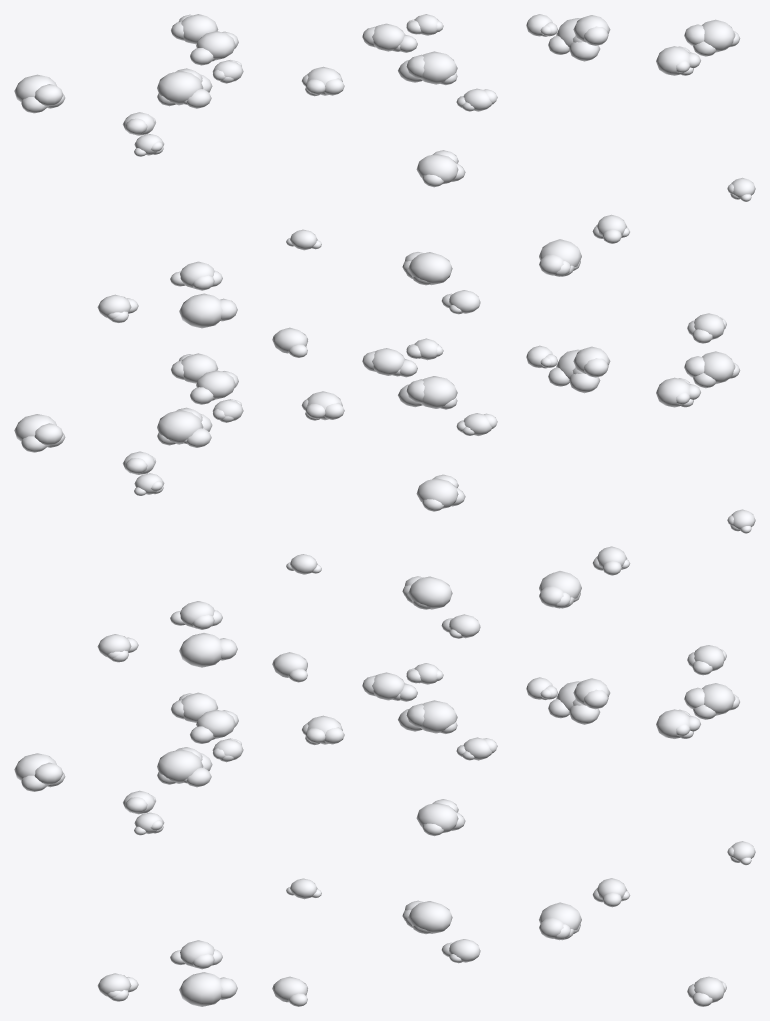
File: CloudLayer2.obj
3 renders of one model, left to right at view 1: azimuth 30°, elevation 25°; view 2: azimuth 150°, elevation 25°; view 3: azimuth 270°, elevation 25°, orthographic. The views are drawn at different scales.
Parts seen in each view (by area): view 1: CloudLayer2; view 2: CloudLayer2; view 3: CloudLayer2.
Boxes of the visible parts, box(x1,y1,x2,y2) form: CloudLayer2: box(14, 14, 243, 1006); CloudLayer2: box(272, 14, 497, 1006); CloudLayer2: box(526, 14, 755, 1006).
Size of the model in its own units: 148 by 698 by 151.
Materials: 1 (1 with a texture image).
